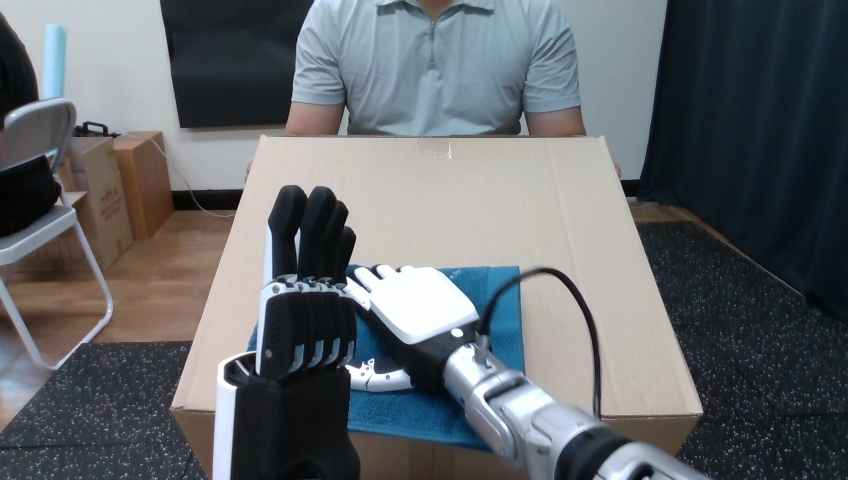left robot hand: (213, 185, 705, 479), (488, 272, 596, 415)
